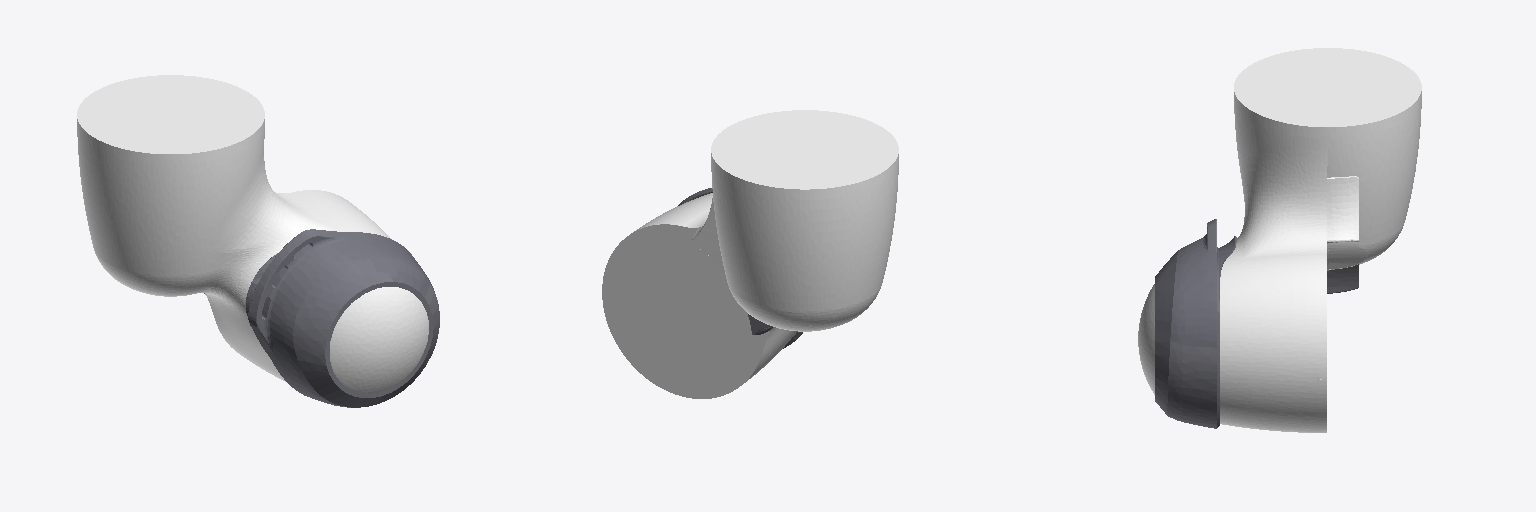
The picture shows the model from 3 angles: view 1: azimuth 30°, elevation 25°; view 2: azimuth 150°, elevation 25°; view 3: azimuth 270°, elevation 25°; orthographic projection.
Visible parts, largest first — view 1: node2_Part__Feature003.000; view 2: node2_Part__Feature003.000; view 3: node2_Part__Feature003.000.
Part boxes in pixels (x1,y1,x2,y2): node2_Part__Feature003.000: (77,75,439,407); node2_Part__Feature003.000: (602,110,898,398); node2_Part__Feature003.000: (1138,48,1421,432).
Size of the model in its own units: 0.1925 by 0.179 by 0.1661.
Materials: 4 (1 with a texture image).